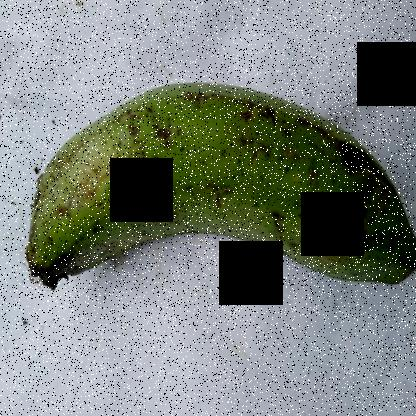unripe: (9, 75, 415, 298)
